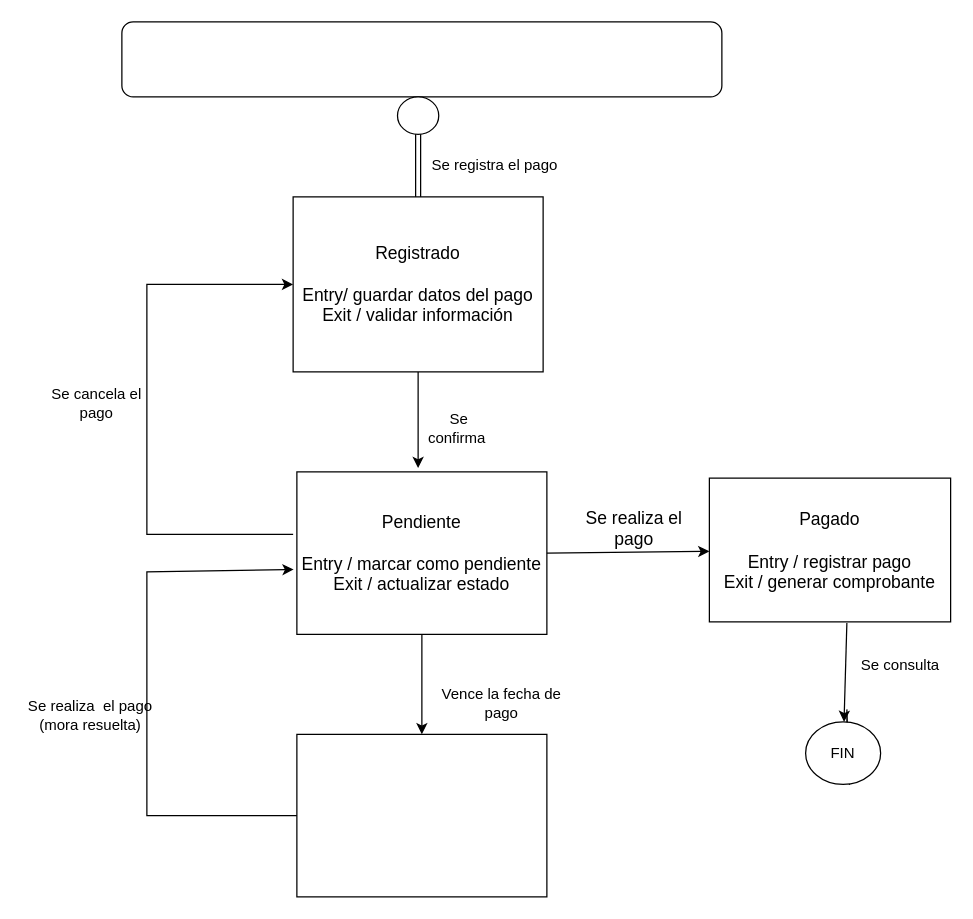
This 973x919 diagram has some shape labels left out. Each missing label, with the centre of its shape:
Moroso Entry / marcar como moroso Exit / notificar al usuario: the point at 421,815
Sistema de Gestión de Gimnasio - pago: the point at 421,59
